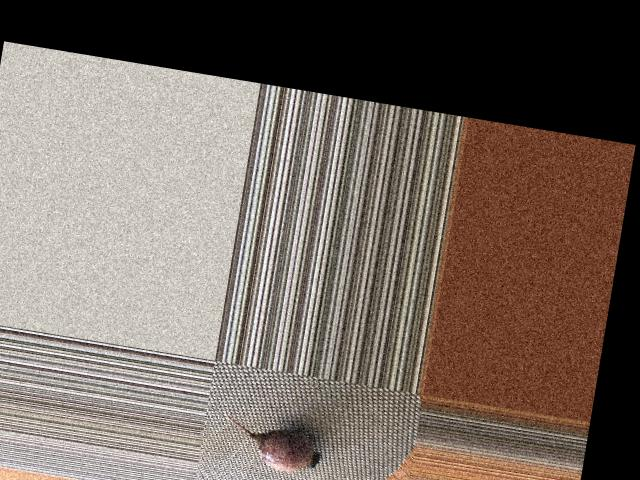beet: (216, 409, 326, 476)
